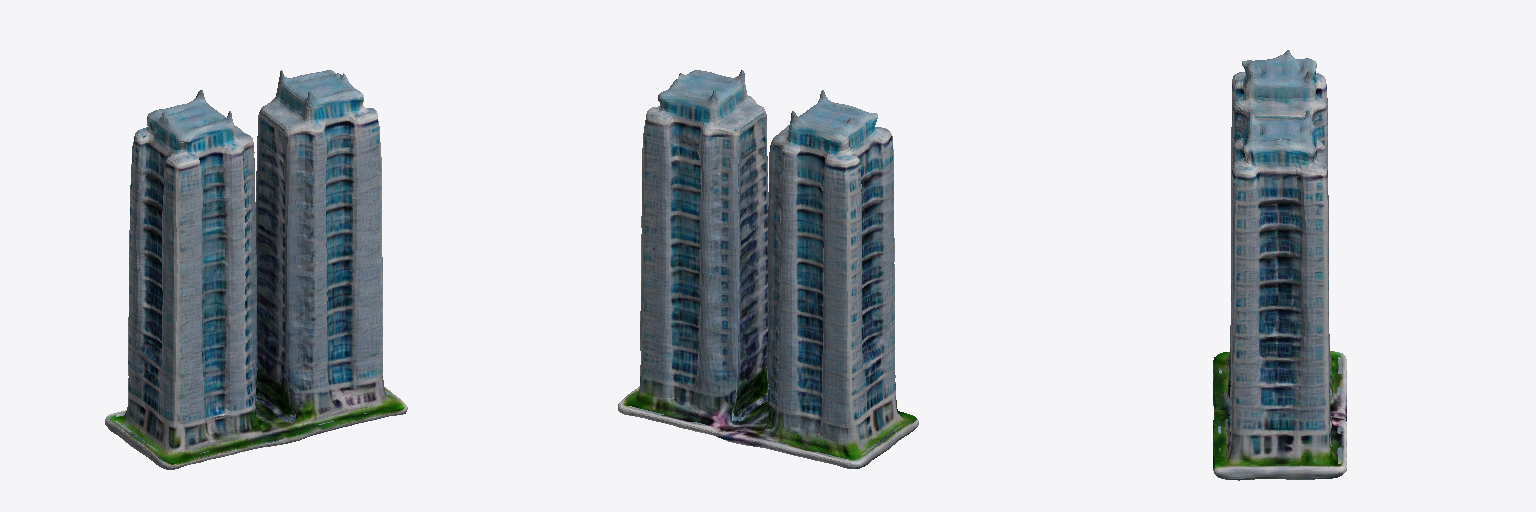
3 views of the same model, side by side, from view 1: azimuth 30°, elevation 25°; view 2: azimuth 150°, elevation 25°; view 3: azimuth 270°, elevation 25° (orthographic).
Parts seen in each view (by area): view 1: mesh; view 2: mesh; view 3: mesh.
Part boxes in pixels (x1,y1,x2,y2): mesh: (105, 70, 407, 469); mesh: (618, 70, 918, 468); mesh: (1213, 50, 1346, 480).
Size of the model in its own units: 0.7692 by 0.9937 by 0.3655.
1 materials, 1 textured.